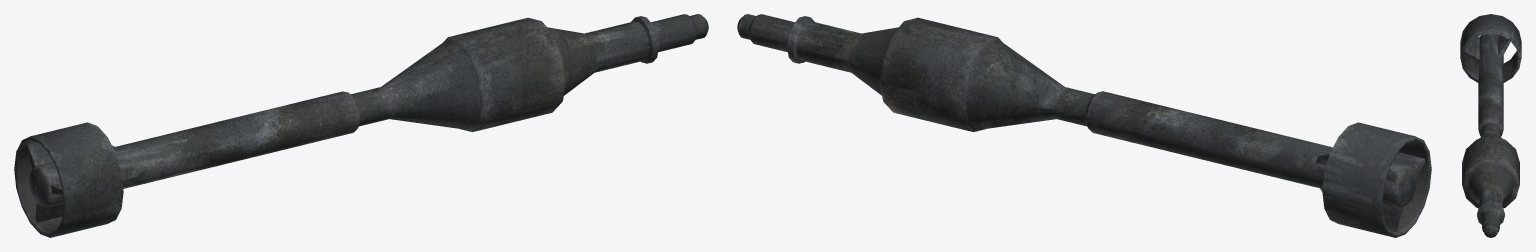
Rendered from weapon_temp_panzershreck_rocket.glb.
The picture shows the model from 3 angles, left to right: view 1: azimuth 30°, elevation 25°; view 2: azimuth 150°, elevation 25°; view 3: azimuth 270°, elevation 25°; orthographic projection. The views are drawn at different scales.
Size of the model in its own units: 25.86 by 3.49 by 3.49.
Materials: 1 (1 with a texture image).
